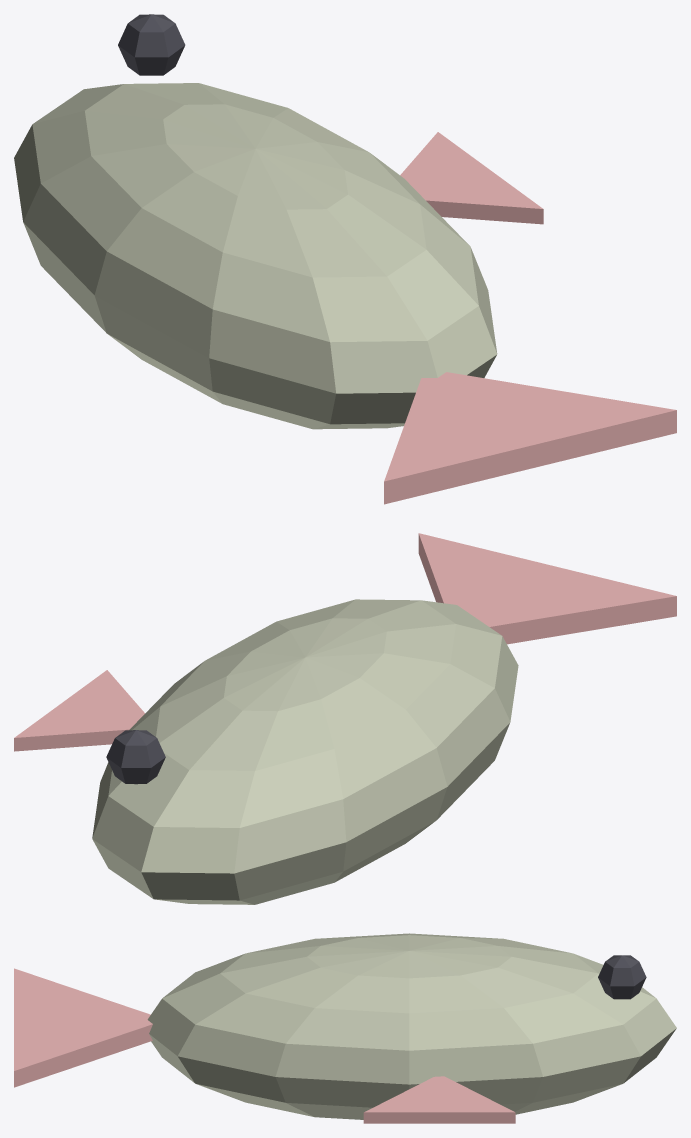
The model's file is trout_held.gltf.
3 renders of one model, top to bottom at view 1: azimuth 30°, elevation 25°; view 2: azimuth 150°, elevation 25°; view 3: azimuth 270°, elevation 25°, orthographic. The views are drawn at different scales.
Parts seen in each view (by area): view 1: pets_fish_held; view 2: pets_fish_held; view 3: pets_fish_held.
Boxes of the visible parts, x1,y1,x2,y2 form: pets_fish_held: (14,14,676,504); pets_fish_held: (14,533,676,904); pets_fish_held: (14,933,676,1123).
Bounding box in the file's own units: 0.114 × 0.06 × 0.218.
